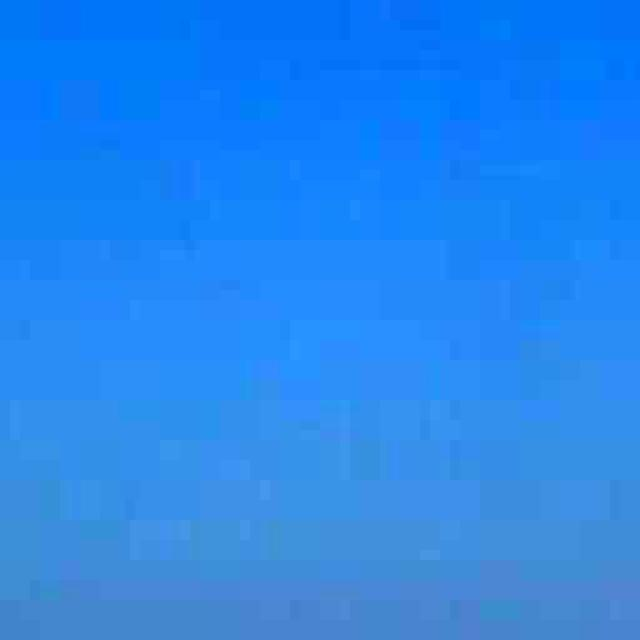bird: (358, 0, 415, 14)
